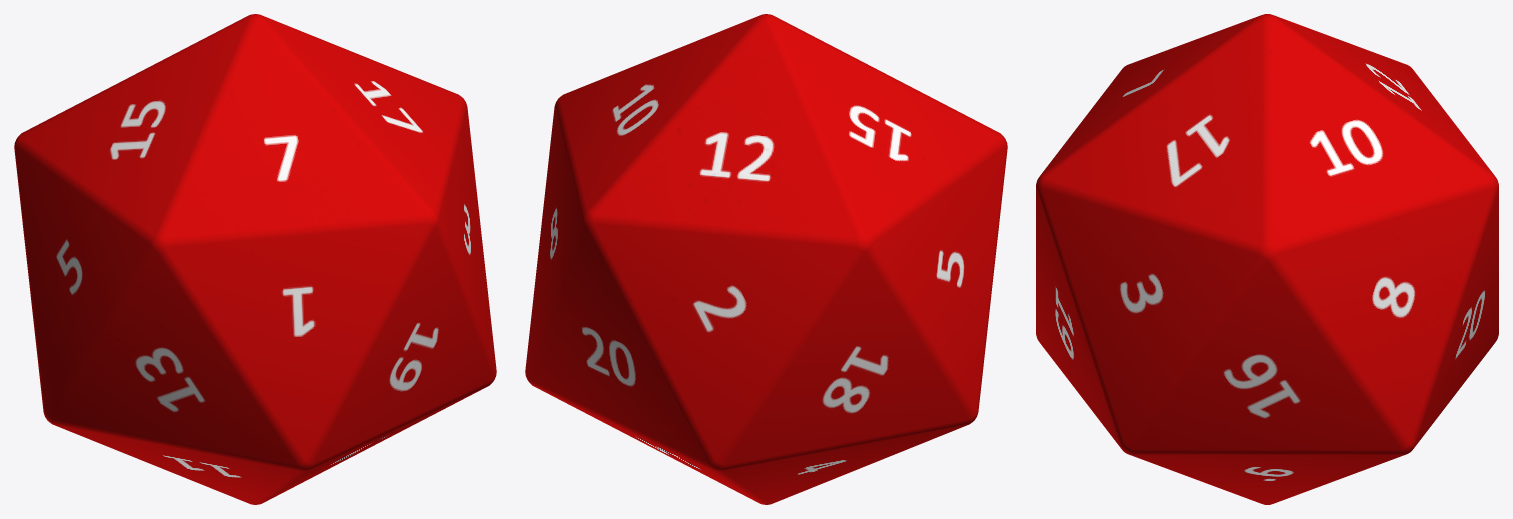
Rendered from dice_d20.glb.
3 renders of one model, left to right at view 1: azimuth 30°, elevation 25°; view 2: azimuth 150°, elevation 25°; view 3: azimuth 270°, elevation 25°, orthographic.
Parts seen in each view (by area): view 1: D20; view 2: D20; view 3: D20.
Boxes of the visible parts, left/top/right/bottom form: D20: left=14, top=14, right=496, bottom=504; D20: left=525, top=14, right=1007, bottom=504; D20: left=1036, top=14, right=1498, bottom=504.
Size of the model in its own units: 0.0492 by 0.0545 by 0.0469.
1 material, 1 textured.
